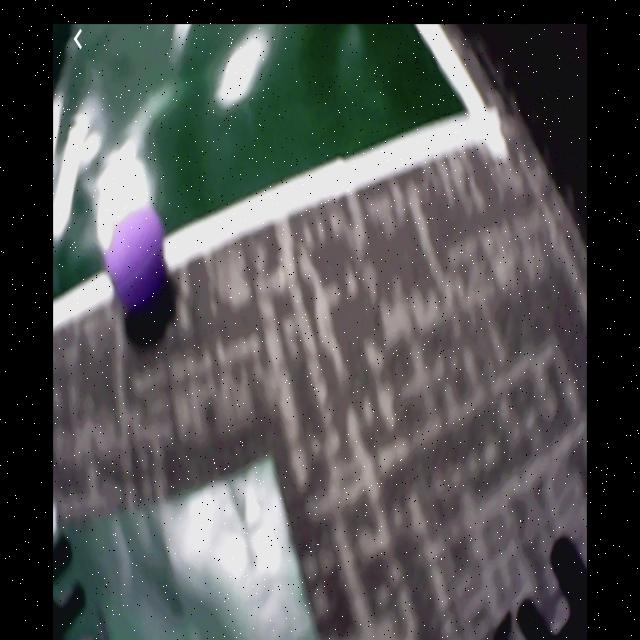ball: (105, 206, 164, 308)
